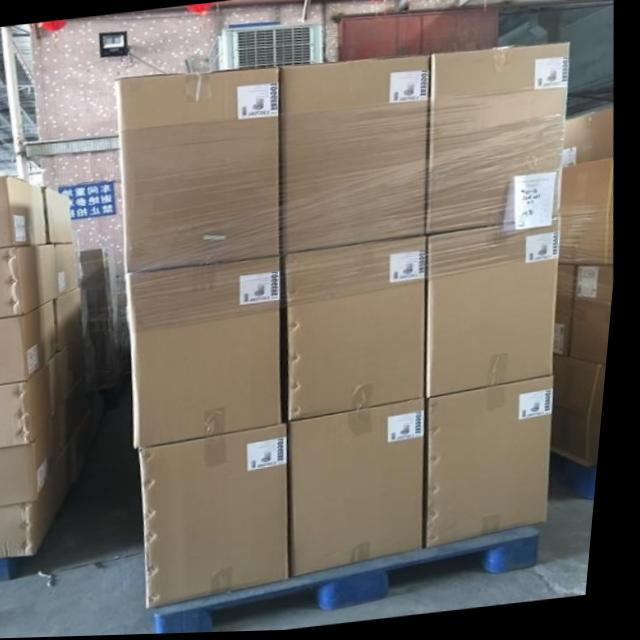box: (120, 65, 285, 271), (132, 256, 293, 450), (280, 55, 434, 257), (145, 424, 303, 611), (288, 233, 435, 422), (429, 45, 572, 236), (296, 401, 437, 580), (432, 221, 567, 401), (435, 376, 558, 548), (0, 441, 78, 559), (0, 402, 69, 507), (0, 350, 67, 447), (559, 357, 613, 469), (0, 298, 64, 383), (88, 247, 122, 403), (567, 159, 615, 266), (0, 244, 64, 317), (573, 267, 617, 366), (0, 176, 51, 248), (67, 402, 107, 485), (565, 107, 616, 169), (113, 293, 137, 398), (559, 265, 585, 360), (64, 379, 100, 441), (44, 188, 79, 244), (62, 285, 89, 352), (64, 338, 93, 398), (64, 241, 85, 293)
